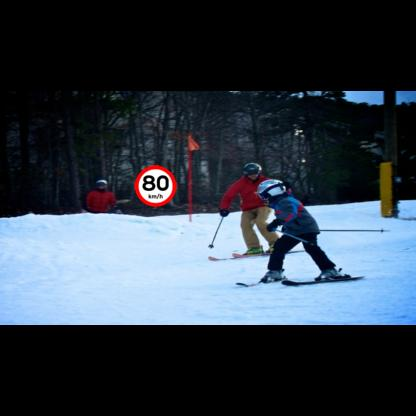R-19: (134, 165, 177, 207)
